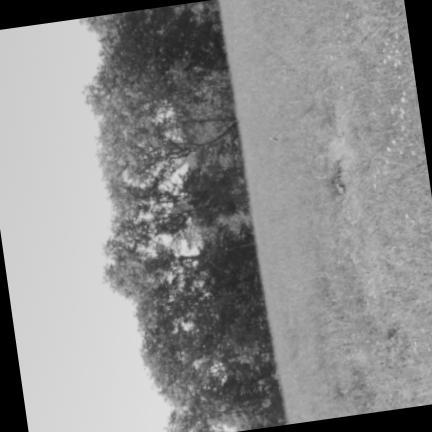Shahed: (265, 124, 285, 149)
